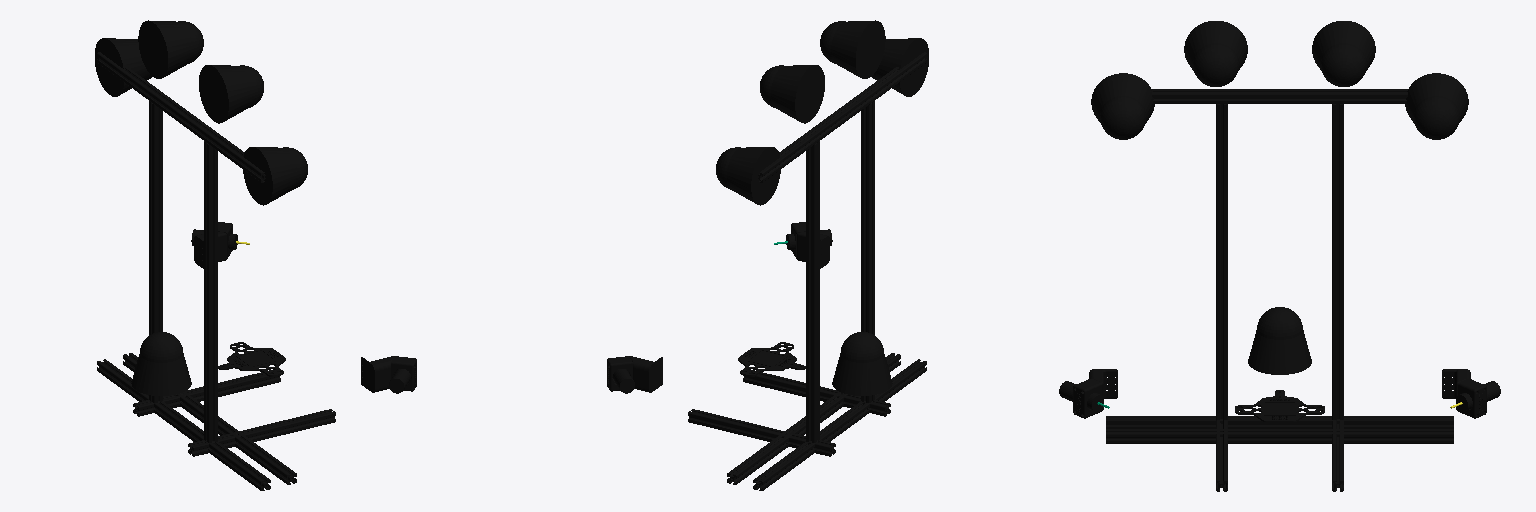
--- Facts derived from the render (not from the file) ---
Views: 3 orthographic renders of the robot side by side, from view 1: azimuth 30°, elevation 25°; view 2: azimuth 150°, elevation 25°; view 3: azimuth 270°, elevation 25°.
Model tatbot with 82 links and 81 joints (12 revolute, 2 prismatic, 67 fixed), rooted at root, posed all joints at 0.
Visible links, largest first — view 1: 600mm_vertical_right, 600mm_vertical_left, camera3, camera4, camera1, 600mm_vertical_top, camera5, 600mm_back_horizontal, 600mm_front_horizontal, camera2, 300mm_front_rail_right, 300mm_front_rail_left (+3 smaller); view 2: 600mm_vertical_left, 600mm_vertical_right, camera3, camera4, camera1, 600mm_vertical_top, camera2, 600mm_back_horizontal, 600mm_front_horizontal, camera5, 300mm_front_rail_left, 300mm_front_rail_right (+3 smaller); view 3: 600mm_front_horizontal, 600mm_back_horizontal, 600mm_vertical_top, 600mm_vertical_left, 600mm_vertical_right, camera1, camera3, camera4, camera2, camera5, palette, 300mm_front_rail_left (+5 smaller).
Boxes of the visible links, bbox=[...] form: 600mm_vertical_right: bbox=[204, 141, 217, 442]; 600mm_vertical_left: bbox=[149, 101, 162, 402]; camera3: bbox=[138, 20, 203, 78]; camera4: bbox=[199, 65, 263, 123]; camera1: bbox=[131, 332, 191, 395]; 600mm_vertical_top: bbox=[97, 52, 265, 182]; camera5: bbox=[243, 147, 307, 205]; 600mm_back_horizontal: bbox=[97, 359, 270, 490]; 600mm_front_horizontal: bbox=[123, 353, 296, 484]; camera2: bbox=[95, 38, 152, 96]; 300mm_front_rail_right: bbox=[188, 409, 335, 456]; 300mm_front_rail_left: bbox=[133, 370, 280, 416]; 600mm_vertical_left: bbox=[806, 141, 819, 442]; 600mm_vertical_right: bbox=[861, 101, 874, 402]; camera3: bbox=[760, 65, 824, 123]; camera4: bbox=[820, 20, 885, 78]; camera1: bbox=[832, 332, 892, 395]; 600mm_vertical_top: bbox=[758, 52, 926, 182]; camera2: bbox=[716, 147, 780, 205]; 600mm_back_horizontal: bbox=[753, 359, 926, 490]; 600mm_front_horizontal: bbox=[727, 353, 900, 484]; camera5: bbox=[871, 38, 928, 96]; 300mm_front_rail_left: bbox=[688, 409, 835, 456]; 300mm_front_rail_right: bbox=[743, 370, 890, 416]; 600mm_front_horizontal: bbox=[1106, 429, 1453, 443]; 600mm_back_horizontal: bbox=[1106, 416, 1453, 428]; 600mm_vertical_top: bbox=[1152, 89, 1407, 103]; 600mm_vertical_left: bbox=[1332, 104, 1343, 419]; 600mm_vertical_right: bbox=[1216, 104, 1227, 419]; camera1: bbox=[1248, 307, 1311, 374]; camera3: bbox=[1312, 21, 1375, 86]; camera4: bbox=[1184, 21, 1247, 86]; camera2: bbox=[1405, 73, 1468, 139]; camera5: bbox=[1091, 73, 1154, 139]; palette: bbox=[1235, 390, 1324, 422]; 300mm_front_rail_left: bbox=[1332, 420, 1343, 491].
Bounding box of the posed robot: 0.4126 × 0.7608 × 0.775 m (x, y, z).
Meshes: 18 distinct files referenced, 17 mesh visuals loaded (6 binary STL); not drawn: 21 (reference not matched to a file when rendering).

The robot description file, URDF, robot "tatbot":
<?xml version="1.0" ?>
<robot name="tatbot">
  <material name="black">
    <color rgba="0.1 0.1 0.1 1"/>
    <specular rgba="0.5 0.5 0.5 1"/>
  </material>
  <link name="root">
      <origin rpy="0 0 0" xyz="0 0 0"/>
  </link>

  <!-- palette -->
  <link name="palette">
    <visual>
      <origin rpy="0 0 1.5707963267948966" xyz="0 0 0"/>
      <geometry>
        <mesh filename="meshes/frame/palette.stl" scale="0.001 0.001 0.001"/>
      </geometry>
      <material name="black"/>
    </visual>
  </link>
  <joint name="palette_joint" type="fixed">
    <origin rpy="0 0 0" xyz="0.126 0 0.085"/>
    <parent link="root"/>
    <child link="palette"/>
  </joint>
  <link name="palette_calibrator" />
  <joint name="palette_calibrator_joint" type="fixed">
    <origin rpy="0 0 0" xyz="0.038 0 0.006"/>
    <parent link="palette"/>
    <child link="palette_calibrator"/>
  </joint>

  <!-- apriltag 0  -->
  <link name="tag0">
    <visual>
      <origin rpy="0 0 0" xyz="0 0 0"/>
      <geometry>
        <mesh filename="meshes/tags/16h5_008_4cm/tag.obj" scale="1 1 1"/>
      </geometry>
    </visual>
  </link>
  <joint name="tag0_joint" type="fixed">
    <origin rpy="0 0 0" xyz="0 0 0.0035"/>
    <parent link="palette"/>
    <child link="tag0"/>
  </joint>

  <!-- left inkcaps -->
  <link name="inkcap_left_large" />
  <joint name="inkcap_left_large_joint" type="fixed">
    <origin rpy="0 0 0" xyz="0 0.055 0"/>
    <parent link="palette"/>
    <child link="inkcap_left_large"/>
  </joint>
  <link name="inkcap_left_small_0" />
  <joint name="inkcap_left_small_0_joint" type="fixed">
    <origin rpy="0 0 0" xyz="0.008 0.069 0"/>
    <parent link="palette"/>
    <child link="inkcap_left_small_0"/>
  </joint>
  <link name="inkcap_left_small_1" />
  <joint name="inkcap_left_small_1_joint" type="fixed">
    <origin rpy="0 0 0" xyz="-0.008 0.069 0"/>
    <parent link="palette"/>
    <child link="inkcap_left_small_1"/>
  </joint>
  <link name="inkcap_left_medium_0" />
  <joint name="inkcap_left_medium_0_joint" type="fixed">
    <origin rpy="0 0 0" xyz="0.01 0.039 0"/>
    <parent link="palette"/>
    <child link="inkcap_left_medium_0"/>
  </joint>
  <link name="inkcap_left_medium_1" />
  <joint name="inkcap_left_medium_1_joint" type="fixed">
    <origin rpy="0 0 0" xyz="-0.01 0.039 0"/>
    <parent link="palette"/>
    <child link="inkcap_left_medium_1"/>
  </joint>
  
  <!-- right inkcaps -->
  <link name="inkcap_right_large" />
  <joint name="inkcap_right_large_joint" type="fixed">
    <origin rpy="0 0 0" xyz="0 -0.055 0"/>
    <parent link="palette"/>
    <child link="inkcap_right_large"/>
  </joint>
  <link name="inkcap_right_small_0" />
  <joint name="inkcap_right_small_0_joint" type="fixed">
    <origin rpy="0 0 0" xyz="0.008 -0.069 0"/>
    <parent link="palette"/>
    <child link="inkcap_right_small_0"/>
  </joint>
  <link name="inkcap_right_small_1" />
  <joint name="inkcap_right_small_1_joint" type="fixed">
    <origin rpy="0 0 0" xyz="-0.008 -0.069 0"/>
    <parent link="palette"/>
    <child link="inkcap_right_small_1"/>
  </joint>
  <link name="inkcap_right_medium_0" />
  <joint name="inkcap_right_medium_0_joint" type="fixed">
    <origin rpy="0 0 0" xyz="0.01 -0.039 0"/>
    <parent link="palette"/>
    <child link="inkcap_right_medium_0"/>
  </joint>
  <link name="inkcap_right_medium_1" />
  <joint name="inkcap_right_medium_1_joint" type="fixed">
    <origin rpy="0 0 0" xyz="-0.01 -0.039 0"/>
    <parent link="palette"/>
    <child link="inkcap_right_medium_1"/>
  </joint>

  <!-- camera1 -->
  <joint name="camera1_mount_joint" type="fixed">
    <origin rpy="0 0 0" xyz="-0.2 0 0"/>
    <parent link="palette"/>
    <child link="camera1"/>
  </joint>
  <link name="camera1">
    <visual>
      <origin rpy="0 0 0" xyz="0 0 0"/>
      <geometry>
        <mesh filename="meshes/cameras/amcrest.stl" scale="0.001 0.001 0.001"/>
      </geometry>
      <material name="black"/>
    </visual>
    <collision>
      <origin rpy="0 0 0" xyz="0 0 0"/>
      <geometry>
        <mesh filename="meshes/cameras/amcrest.stl" scale="0.001 0.001 0.001"/>
      </geometry>
    </collision>
  </link>
  <joint name="camera1_frame_joint" type="fixed">
    <origin rpy="-1.5707963267948966 0 0" xyz="0 0 0.07"/>
    <parent link="camera1"/>
    <child link="camera1_frame"/>
  </joint>
  <link name="camera1_frame"/>
  <joint name="camera1_optical_joint" type="fixed">
    <origin rpy="-1.5707963267948966 1.5707963267948966 -0.7853981633974483" xyz="0 0 0"/>
    <parent link="camera1_frame"/>
    <child link="camera1_optical_frame"/>
  </joint>
  <link name="camera1_optical_frame"/>
  
  <!-- camera2 -->
  <joint name="camera2_mount_joint" type="fixed">
    <origin rpy="0 1.5707963267948966 0" xyz="-0.0275 0.27 0.6"/>
    <parent link="root"/>
    <child link="camera2"/>
  </joint>
  <link name="camera2">
    <visual>
      <origin rpy="0 0 0" xyz="0 0 0"/>
      <geometry>
        <mesh filename="meshes/cameras/amcrest.stl" scale="0.001 0.001 0.001"/>
      </geometry>
      <material name="black"/>
    </visual>
    <collision>
      <origin rpy="0 0 0" xyz="0 0 0"/>
      <geometry>
        <mesh filename="meshes/cameras/amcrest.stl" scale="0.001 0.001 0.001"/>
      </geometry>
    </collision>
  </link>
  <joint name="camera2_frame_joint" type="fixed">
    <origin rpy="0 0 0" xyz="0 0 0.07"/>
    <parent link="camera2"/>
    <child link="camera2_frame"/>
  </joint>
  <link name="camera2_frame"/>
  <joint name="camera2_optical_joint" type="fixed">
    <origin rpy="-1.5707963267948966 0 -1.5707963267948966" xyz="0 0 0"/>
    <parent link="camera2_frame"/>
    <child link="camera2_optical_frame"/>
  </joint>
  <link name="camera2_optical_frame"/>
  
  <!-- camera3 -->
  <joint name="camera3_mount_joint" type="fixed">
    <origin rpy="0 1.5707963267948966 0" xyz="-0.0275 0.11 0.7"/>
    <parent link="root"/>
    <child link="camera3"/>
  </joint>
  <link name="camera3">
    <visual>
      <origin rpy="0 0 0" xyz="0 0 0"/>
      <geometry>
        <mesh filename="meshes/cameras/amcrest.stl" scale="0.001 0.001 0.001"/>
      </geometry>
      <material name="black"/>
    </visual>
    <collision>
      <origin rpy="0 0 0" xyz="0 0 0"/>
      <geometry>
        <mesh filename="meshes/cameras/amcrest.stl" scale="0.001 0.001 0.001"/>
      </geometry>
    </collision>
  </link>
  <joint name="camera3_frame_joint" type="fixed">
    <origin rpy="0 0 0" xyz="0 0 0.07"/>
    <parent link="camera3"/>
    <child link="camera3_frame"/>
  </joint>
  <link name="camera3_frame"/>
  <joint name="camera3_optical_joint" type="fixed">
    <origin rpy="-1.5707963267948966 0 -1.5707963267948966" xyz="0 0 0"/>
    <parent link="camera3_frame"/>
    <child link="camera3_optical_frame"/>
  </joint>
  <link name="camera3_optical_frame"/>

  <!-- camera4 -->
  <joint name="camera4_mount_joint" type="fixed">
    <origin rpy="0 1.5707963267948966 0" xyz="-0.0275 -0.11 0.7"/>
    <parent link="root"/>
    <child link="camera4"/>
  </joint>
  <link name="camera4">
    <visual>
      <origin rpy="0 0 0" xyz="0 0 0"/>
      <geometry>
        <mesh filename="meshes/cameras/amcrest.stl" scale="0.001 0.001 0.001"/>
      </geometry>
      <material name="black"/>
    </visual>
  </link>
  <joint name="camera4_frame_joint" type="fixed">
    <origin rpy="0 0 0" xyz="0 0 0.07"/>
    <parent link="camera4"/>
    <child link="camera4_frame"/>
  </joint>
  <link name="camera4_frame"/>
  <joint name="camera4_optical_joint" type="fixed">
    <origin rpy="-1.5707963267948966 0 -1.5707963267948966" xyz="0 0 0"/>
    <parent link="camera4_frame"/>
    <child link="camera4_optical_frame"/>
  </joint>
  <link name="camera4_optical_frame"/>

  <!-- camera5 -->
  <joint name="camera5_mount_joint" type="fixed">
    <origin rpy="0 1.5707963267948966 0" xyz="-0.0275 -0.27 0.6"/>
    <parent link="root"/>
    <child link="camera5"/>
  </joint>
  <link name="camera5">
    <visual>
      <origin rpy="0 0 0" xyz="0 0 0"/>
      <geometry>
        <mesh filename="meshes/cameras/amcrest.stl" scale="0.001 0.001 0.001"/>
      </geometry>
      <material name="black"/>
    </visual>
  </link>
  <joint name="camera5_frame_joint" type="fixed">
    <origin rpy="0 0 0" xyz="0 0 0.07"/>
    <parent link="camera5"/>
    <child link="camera5_frame"/>
  </joint>
  <link name="camera5_frame"/>
  <joint name="camera5_optical_joint" type="fixed">
    <origin rpy="-1.5707963267948966 0 -1.5707963267948966" xyz="0 0 0"/>
    <parent link="camera5_frame"/>
    <child link="camera5_optical_frame"/>
  </joint>
  <link name="camera5_optical_frame"/>

  <!-- arm_l -->
  <joint name="left/mount_joint" type="fixed">
    <origin rpy="0 0 0" xyz="0 0.2675 0"/>
    <parent link="root"/>
    <child link="left/base_link"/>
  </joint>
  <link name="left/base_link">
    <inertial>
      <origin rpy="0 0 0" xyz="-0.00014175 -0.00005228 0.03175177"/>
      <mass value="0.45969858"/>
      <inertia ixx="0.00041660" ixy="0.00000011" ixz="-0.00000454" iyy="0.00044896" iyz="-0.00000078" izz="0.00021403"/>
    </inertial>
    <visual>
      <origin rpy="0 0 0" xyz="0 0 0"/>
      <geometry>
        <mesh filename="meshes/wxai/base_link.stl"/>
      </geometry>
      <material name="black"/>
    </visual>
    <collision>
      <origin rpy="0 0 0" xyz="0 0 0"/>
      <geometry>
        <mesh filename="meshes/wxai/base_link.stl"/>
      </geometry>
    </collision>
  </link>
  <link name="left/link_1">
    <inertial>
      <origin rpy="0 0 0" xyz="-0.00011075 0.00171176 0.02044592"/>
      <mass value="0.15270428"/>
      <inertia ixx="0.00018509" ixy="-0.00000191" ixz="-0.00001436" iyy="0.00008358" iyz="-0.00000130" izz="0.00019219"/>
    </inertial>
    <visual>
      <origin rpy="0 0 0" xyz="0 0 0"/>
      <geometry>
        <mesh filename="meshes/wxai/link_1.stl"/>
      </geometry>
      <material name="black"/>
    </visual>
    <collision>
      <origin rpy="0 0 0" xyz="0 0 0"/>
      <geometry>
        <mesh filename="meshes/wxai/link_1.stl"/>
      </geometry>
    </collision>
  </link>
  <joint name="left/joint_0" type="revolute">
    <origin rpy="0 0 0" xyz="0 0 0.05725"/>
    <parent link="left/base_link"/>
    <child link="left/link_1"/>
    <axis xyz="0 0 1"/>
    <limit effort="27.0" lower="-3.0543261909900767" upper="3.0543261909900767" velocity="3.375"/>
  </joint>
  <link name="left/link_2">
    <inertial>
      <origin rpy="0 0 0" xyz="-0.13121451 -0.00292583 0.00021345"/>
      <mass value="1.15316319"/>
      <inertia ixx="0.00102632" ixy="-0.00000319" ixz="-0.00002679" iyy="0.01736118" iyz="-0.00000193" izz="0.01794489"/>
    </inertial>
    <visual>
      <origin rpy="0 0 0" xyz="0 0 0"/>
      <geometry>
        <mesh filename="meshes/wxai/link_2.stl"/>
      </geometry>
      <material name="black"/>
    </visual>
    <collision>
      <origin rpy="0 0 0" xyz="0 0 0"/>
      <geometry>
        <mesh filename="meshes/wxai/link_2.stl"/>
      </geometry>
    </collision>
  </link>
  <joint name="left/joint_1" type="revolute">
    <origin rpy="0 0 0" xyz="0.02 0 0.04625"/>
    <parent link="left/link_1"/>
    <child link="left/link_2"/>
    <axis xyz="0 1 0"/>
    <limit effort="27.0" lower="0.0" upper="3.141592653589793" velocity="3.375"/>
  </joint>
  <link name="left/link_3">
    <inertial>
      <origin rpy="0 0 0" xyz="0.18083602 -0.00094090 0.05554937"/>
      <mass value="0.68666638"/>
      <inertia ixx="0.00064876" ixy="0.00009128" ixz="-0.00052002" iyy="0.00547407" iyz="0.00001159" izz="0.00561509"/>
    </inertial>
    <visual>
      <origin rpy="0 0 0" xyz="0 0 0"/>
      <geometry>
        <mesh filename="meshes/wxai/link_3.stl"/>
      </geometry>
      <material name="black"/>
    </visual>
    <collision>
      <origin rpy="0 0 0" xyz="0 0 0"/>
      <geometry>
        <mesh filename="meshes/wxai/link_3.stl"/>
      </geometry>
    </collision>
  </link>
  <joint name="left/joint_2" type="revolute">
    <origin rpy="0 0 0" xyz="-0.264 0 0"/>
    <parent link="left/link_2"/>
    <child link="left/link_3"/>
    <axis xyz="0 -1 0"/>
    <limit effort="27.0" lower="0.0" upper="2.356194490192345" velocity="3.375"/>
  </joint>
  <link name="left/link_4">
    <inertial>
      <origin rpy="0 0 0" xyz="0.05797842 0.00027145 0.05884447"/>
      <mass value="0.45789905"/>
      <inertia ixx="0.00053839" ixy="0.00000690" ixz="-0.00018164" iyy="0.00066138" iyz="0.00000724" izz="0.00042116"/>
    </inertial>
    <visual>
      <origin rpy="0 0 0" xyz="0 0 0"/>
      <geometry>
        <mesh filename="meshes/wxai/link_4.stl"/>
      </geometry>
      <material name="black"/>
    </visual>
    <collision>
      <origin rpy="0 0 0" xyz="0 0 0"/>
      <geometry>
        <mesh filename="meshes/wxai/link_4.stl"/>
      </geometry>
    </collision>
  </link>
  <joint name="left/joint_3" type="revolute">
    <origin rpy="0 0 0" xyz="0.245 0 0.06"/>
    <parent link="left/link_3"/>
    <child link="left/link_4"/>
    <axis xyz="0 -1 0"/>
    <limit effort="7.0" lower="-1.5707963267948966" upper="1.5707963267948966" velocity="7.0"/>
  </joint>
  <link name="left/link_5">
    <inertial>
      <origin rpy="0 0 0" xyz="0.00412447 -0.00001138 -0.04283184"/>
      <mass value="0.36693910"/>
      <inertia ixx="0.00018912" ixy="-0.00000045" ixz="0.00000090" iyy="0.00032062" iyz="0.00000003" izz="0.00026750"/>
    </inertial>
    <visual>
      <origin rpy="0 0 0" xyz="0 0 0"/>
      <geometry>
        <mesh filename="meshes/wxai/link_5.stl"/>
      </geometry>
      <material name="black"/>
    </visual>
    <collision>
      <origin rpy="0 0 0" xyz="0 0 0"/>
      <geometry>
        <mesh filename="meshes/wxai/link_5.stl"/>
      </geometry>
    </collision>
  </link>
  <joint name="left/joint_4" type="revolute">
    <origin rpy="0 0 0" xyz="0.06775 0 0.0455"/>
    <parent link="left/link_4"/>
    <child link="left/link_5"/>
    <axis xyz="0 0 -1"/>
    <limit effort="7.0" lower="-1.5707963267948966" upper="1.5707963267948966" velocity="7.0"/>
  </joint>
  <link name="left/link_6">
    <inertial>
      <origin rpy="0 0 0" xyz="0.04572768 -0.00000726 0.00001402"/>
      <mass value="0.55469347"/>
      <inertia ixx="0.00082429" ixy="-0.00000051" ixz="0.00000010" iyy="0.00048759" iyz="0.00000004" izz="0.00108600"/>
    </inertial>
    <visual>
      <origin rpy="0 0 0" xyz="0 0 0"/>
      <geometry>
        <mesh filename="meshes/wxai/link_6.stl"/>
      </geometry>
      <material name="black"/>
    </visual>
    <collision>
      <origin rpy="0 0 0" xyz="0 0 0"/>
      <geometry>
        <mesh filename="meshes/wxai/link_6.stl"/>
      </geometry>
    </collision>
  </link>
  <joint name="left/joint_5" type="revolute">
    <origin rpy="0 0 0" xyz="0.02895 0 -0.0455"/>
    <parent link="left/link_5"/>
    <child link="left/link_6"/>
    <axis xyz="1 0 0"/>
    <limit effort="7.0" lower="-3.141592653589793" upper="3.141592653589793" velocity="7.0"/>
  </joint>

  <!-- left realsense -->
  <link name="left/realsense_mount_d405">
    <inertial>
      <origin rpy="0 0 0" xyz="0.03023383 0.00679835 0.05006687"/>
      <mass value="0.04518012"/>
      <inertia ixx="0.00003426" ixy="-0.00000027" ixz="-0.00000309" iyy="0.00001980" iyz="-0.00000319" izz="0.00002470"/>
    </inertial>
    <visual>
      <origin rpy="0 0 0" xyz="0 0 0"/>
      <geometry>
        <mesh filename="meshes/wxai/camera_mount_d405.stl"/>
      </geometry>
      <material name="black"/>
    </visual>
    <collision>
      <origin rpy="0 0 0" xyz="0 0 0"/>
      <geometry>
        <mesh filename="meshes/wxai/camera_mount_d405.stl"/>
      </geometry>
    </collision>
  </link>
  <joint name="left/realsense_mount_joint" type="fixed">
    <origin rpy="0 0 0" xyz="0.012 0 0"/>
    <parent link="left/link_6"/>
    <child link="left/realsense_mount_d405"/>
  </joint>
  <joint name="left/realsense_joint" type="fixed">
    <origin rpy="0 0.3490658503988659 0" xyz="0.02927207801 0 0.03824951197"/>
    <parent link="left/realsense_mount_d405"/>
    <child link="left/realsense_bottom_screw_frame"/>
  </joint>
  <link name="left/realsense_bottom_screw_frame"/>
  <joint name="left/realsense_link_joint" type="fixed">
    <origin rpy="0 0 0" xyz="0.01085 0.009 0.021"/>
    <parent link="left/realsense_bottom_screw_frame"/>
    <child link="left/realsense_link"/>
  </joint>
  <link name="left/realsense_link">
    <visual>
      <origin rpy="1.5707963267948966 0 1.5707963267948966" xyz="0.0038 -0.009 0"/>
      <geometry>
        <mesh filename="meshes/cameras/d405.stl" scale="0.001 0.001 0.001"/>
      </geometry>
      <material name="black"/>
    </visual>
    <collision>
      <origin rpy="0 0 0" xyz="-0.0078 -0.009 0"/>
      <geometry>
        <box size="0.023 0.042 0.042"/>
      </geometry>
    </collision>
    <inertial>
      <mass value="0.072"/>
      <origin xyz="0 0 0"/>
      <inertia ixx="0.00002117" ixy="0.0" ixz="0.0" iyy="0.000013758" iyz="0.0" izz="0.000013758"/>
    </inertial>
  </link>
  <joint name="left/realsense_depth_joint" type="fixed">
    <origin rpy="0 0 0" xyz="0 0 0"/>
    <parent link="left/realsense_link"/>
    <child link="left/realsense_depth_frame"/>
  </joint>
  <link name="left/realsense_depth_frame"/>
  <joint name="left/realsense_depth_optical_joint" type="fixed">
    <origin rpy="-1.5707963267948966 0 -1.5707963267948966" xyz="0 0 0"/>
    <parent link="left/realsense_depth_frame"/>
    <child link="left/realsense_depth_optical_frame"/>
  </joint>
  <link name="left/realsense_depth_optical_frame"/>
  <joint name="left/realsense_infra1_joint" type="fixed">
    <origin rpy="0 0 0" xyz="0 0.0 0"/>
    <parent link="left/realsense_link"/>
    <child link="left/realsense_infra1_frame"/>
  </joint>
  <link name="left/realsense_infra1_frame"/>
  <joint name="left/realsense_infra1_optical_joint" type="fixed">
    <origin rpy="-1.5707963267948966 0 -1.5707963267948966" xyz="0 0 0"/>
    <parent link="left/realsense_infra1_frame"/>
    <child link="left/realsense_infra1_optical_frame"/>
  </joint>
  <link name="left/realsense_infra1_optical_frame"/>
  <joint name="left/realsense_infra2_joint" type="fixed">
    <origin rpy="0 0 0" xyz="0 -0.018 0"/>
    <parent link="left/realsense_link"/>
    <child link="left/realsense_infra2_frame"/>
  </joint>
  <link name="left/realsense_infra2_frame"/>
  <joint name="left/realsense_infra2_optical_joint" type="fixed">
    <origin rpy="-1.5707963267948966 0 -1.5707963267948966" xyz="0 0 0"/>
    <parent link="left/realsense_infra2_frame"/>
    <child link="left/realsense_infra2_optical_frame"/>
  </joint>
  <link name="left/realsense_infra2_optical_frame"/>
  <joint name="left/realsense_color_joint" type="fixed">
    <origin rpy="0 0 0" xyz="0 0.0 0"/>
    <parent link="left/realsense_link"/>
    <child link="left/realsense_color_frame"/>
  </joint>
  <link name="left/realsense_color_frame"/>
  <joint name="left/realsense_color_optical_joint" type="fixed">
    <origin rpy="-1.5707963267948966 0 -1.5707963267948966" xyz="0 0 0"/>
    <parent link="left/realsense_color_frame"/>
    <child link="left/realsense_color_optical_frame"/>
  </joint>
  <link name="left/realsense_color_optical_frame"/>

  <!-- left arm carriage -->
  <link name="left/carriage_left">
    <inertial>
      <origin rpy="0 0 0" xyz="-0.00889602 -0.00403515 -0.00457908"/>
      <mass value="0.05036313"/>
      <inertia ixx="0.00001736" ixy="-0.00000165" ixz="-0.00000104" iyy="0.00000591" iyz="-0.00000172" izz="0.00001378"/>
    </inertial>
    <visual>
      <origin rpy="0 0 0" xyz="0 0 0"/>
      <geometry>
        <mesh filename="meshes/wxai/carriage_left.stl"/>
      </geometry>
      <material name="black"/>
    </visual>
    <collision>
      <origin rpy="0 0 0" xyz="0 0 0"/>
      <geometry>
        <mesh filename="meshes/wxai/carriage_left.stl"/>
      </geometry>
    </collision>
  </link>
  <joint name="left/left_carriage_joint" type="prismatic">
    <origin rpy="0 0 0" xyz="0.0865 0.023 0"/>
    <parent link="left/link_6"/>
    <child link="left/carriage_left"/>
    <axis xyz="0 1 0"/>
    <limit effort="200.0" lower="0.0" upper="0.04" velocity="0.25"/>
  </joint>
  <link name="left/ee_p1">
    <visual>
      <origin rpy="-1.5707963267948966 0 -1.5707963267948966" xyz="0 -0.007 0"/>
      <geometry>
        <mesh filename="meshes/ee/p1.stl" scale="0.001 0.001 0.001"/>
      </geometry>
      <material name="black"/>
    </visual>
  </link>
  <joint name="left/ee_p1_joint" type="fixed">
    <origin rpy="0 0 0" xyz="0 0 0"/>
    <parent link="left/carriage_left"/>
    <child link="left/ee_p1"/>
  </joint>
  <link name="left/ee_p2">
    <visual>
      <origin rpy="-1.5707963267948966 0 -0.7853981633974483" xyz="0.0255 0.0475 0"/>
      <geometry>
        <mesh filename="meshes/ee/p2.stl" scale="0.001 0.001 0.001"/>
      </geometry>
      <material name="black"/>
    </visual>
  </link>
  <joint name="left/ee_p2_joint" type="fixed">
    <origin rpy="0 0 0" xyz="0 0 0"/>
    <parent link="left/ee_p1"/>
    <child link="left/ee_p2"/>
  </joint>

  <!-- left arm tattoo pen -->
  <link name="left/tattoo_pen">
    <visual>
      <origin rpy="0 0 0" xyz="0 0 0"/>
      <geometry>
        <cylinder length="0.08" radius="0.015"/>
      </geometry>
      <material name="black"/>
    </visual>
  </link>
  <joint name="left/tattoo_pen_joint" type="fixed">
    <origin rpy="-1.5707963267948966 0 0.7853981633974483" xyz="0.051 0.051 0"/>
    <parent link="left/ee_p1"/>
    <child link="left/tattoo_pen"/>
  </joint>
  <link name="left/tattoo_needle">
    <visual>
      <origin rpy="0 0 0" xyz="0 0 0.016"/>
      <geometry>
        <cylinder length="0.035" radius="0.002"/>
      </geometry>
    </visual>
  </link>
  <joint name="left/tattoo_needle_joint" type="fixed">
    <origin rpy="0 0 0" xyz="0 0 -0.065"/>
    <parent link="left/tattoo_pen"/>
    <child link="left/tattoo_needle"/>
  </joint>


  <!-- arm_r -->
  <joint name="right/mount_joint" type="fixed">
    <origin rpy="0 0 0" xyz="0 -0.2675 0"/>
    <parent link="root"/>
    <child link="right/base_link"/>
  </joint>
  <link name="right/base_link">
    <inertial>
      <origin rpy="0 0 0" xyz="-0.00014175 -0.00005228 0.03175177"/>
      <mass value="0.45969858"/>
      <inertia ixx="0.00041660" ixy="0.00000011" ixz="-0.00000454" iyy="0.00044896" iyz="-0.00000078" izz="0.00021403"/>
    </inertial>
    <visual>
      <origin rpy="0 0 0" xyz="0 0 0"/>
      <geometry>
        <mesh filename="meshes/wxai/base_link.stl"/>
      </geometry>
      <material name="black"/>
    </visual>
    <collision>
      <origin rpy="0 0 0" xyz="0 0 0"/>
      <geometry>
        <mesh filename="meshes/wxai/base_link.stl"/>
      </geometry>
    </collision>
  </link>
  <link name="right/link_1">
    <inertial>
      <origin rpy="0 0 0" xyz="-0.00011075 0.00171176 0.02044592"/>
      <mass value="0.15270428"/>
      <inertia ixx="0.00018509" ixy="-0.00000191" ixz="-0.00001436" iyy="0.00008358" iyz="-0.00000130" izz="0.00019219"/>
    </inertial>
    <visual>
      <origin rpy="0 0 0" xyz="0 0 0"/>
      <geometry>
        <mesh filename="meshes/wxai/link_1.stl"/>
      </geometry>
      <material name="black"/>
    </visual>
    <collision>
      <origin rpy="0 0 0" xyz="0 0 0"/>
      <geometry>
        <mesh filename="meshes/wxai/link_1.stl"/>
      </geometry>
    </collision>
  </link>
  <joint name="right/joint_0" type="revolute">
    <origin rpy="0 0 0" xyz="0 0 0.05725"/>
    <parent link="right/base_link"/>
    <child link="right/link_1"/>
    <axis xyz="0 0 1"/>
    <limit effort="27.0" lower="-3.0543261909900767" upper="3.0543261909900767" velocity="3.375"/>
  </joint>
  <link name="right/link_2">
    <inertial>
      <origin rpy="0 0 0" xyz="-0.13121451 -0.00292583 0.00021345"/>
      <mass value="1.15316319"/>
      <inertia ixx="0.00102632" ixy="-0.00000319" ixz="-0.00002679" iyy="0.01736118" iyz="-0.00000193" izz="0.01794489"/>
    </inertial>
    <visual>
      <origin rpy="0 0 0" xyz="0 0 0"/>
      <geometry>
        <mesh filename="meshes/wxai/link_2.stl"/>
      </geometry>
      <material name="black"/>
    </visual>
    <collision>
      <origin rpy="0 0 0" xyz="0 0 0"/>
      <geometry>
        <mesh filename="meshes/wxai/link_2.stl"/>
      </geometry>
    </collision>
  </link>
  <joint name="right/joint_1" type="revolute">
    <origin rpy="0 0 0" xyz="0.02 0 0.04625"/>
    <parent link="right/link_1"/>
    <child link="right/link_2"/>
    <axis xyz="0 1 0"/>
    <limit effort="27.0" lower="0.0" upper="3.141592653589793" velocity="3.375"/>
  </joint>
  <link name="right/link_3">
    <inertial>
      <origin rpy="0 0 0" xyz="0.18083602 -0.00094090 0.05554937"/>
      <mass value="0.68666638"/>
      <inertia ixx="0.00064876" ixy="0.00009128" ixz="-0.00052002" iyy="0.00547407" iyz="0.00001159" izz="0.00561509"/>
    </inertial>
    <visual>
      <origin rpy="0 0 0" xyz="0 0 0"/>
      <geometry>
        <mesh filename="meshes/wxai/link_3.stl"/>
      </geometry>
      <material name="black"/>
    </visual>
    <collision>
      <origin rpy="0 0 0" xyz="0 0 0"/>
      <geometry>
        <mesh filename="meshes/wxai/link_3.stl"/>
      </geometry>
    </collision>
  </link>
  <joint name="right/joint_2" type="revolute">
    <origin rpy="0 0 0" xyz="-0.264 0 0"/>
    <parent link="right/link_2"/>
    <child link="right/link_3"/>
    <axis xyz="0 -1 0"/>
    <limit effort="27.0" lower="0.0" upper="2.356194490192345" velocity="3.375"/>
  </joint>
  <link name="right/link_4">
    <inertial>
      <origin rpy="0 0 0" xyz="0.05797842 0.00027145 0.05884447"/>
      <mass value="0.45789905"/>
      <inertia ixx="0.00053839" ixy="0.00000690" ixz="-0.00018164" iyy="0.00066138" iyz="0.00000724" izz="0.00042116"/>
    </inertial>
    <visual>
      <origin rpy="0 0 0" xyz="0 0 0"/>
      <geometry>
        <mesh filename="meshes/wxai/link_4.stl"/>
      </geometry>
      <material name="black"/>
    </visual>
    <collision>
      <origin rpy="0 0 0" xyz="0 0 0"/>
      <geometry>
        <mesh filename="meshes/wxai/link_4.stl"/>
      </geometry>
    </collision>
  </link>
  <joint name="right/joint_3" type="revolute">
    <origin rpy="0 0 0" xyz="0.245 0 0.06"/>
    <parent link="right/link_3"/>
    <child link="right/link_4"/>
    <axis xyz="0 -1 0"/>
    <limit effort="7.0" lower="-1.5707963267948966" upper="1.5707963267948966" velocity="7.0"/>
  </joint>
  <link name="right/link_5">
    <inertial>
      <origin rpy="0 0 0" xyz="0.00412447 -0.00001138 -0.04283184"/>
      <mass value="0.36693910"/>
      <inertia ixx="0.00018912" ixy="-0.00000045" ixz="0.00000090" iyy="0.00032062" iyz="0.00000003" izz="0.00026750"/>
    </inertial>
    <visual>
      <origin rpy="0 0 0" xyz="0 0 0"/>
      <geometry>
        <mesh filename="meshes/wxai/link_5.stl"/>
      </geometry>
      <material name="black"/>
    </visual>
    <collision>
      <origin rpy="0 0 0" xyz="0 0 0"/>
      <geometry>
        <mesh filename="meshes/wxai/link_5.stl"/>
      </geometry>
    </collision>
  </link>
  <joint name="right/joint_4" type="revolute">
    <origin rpy="0 0 0" xyz="0.06775 0 0.0455"/>
    <parent link="right/link_4"/>
    <child link="right/link_5"/>
    <axis xyz="0 0 -1"/>
    <limit effort="7.0" lower="-1.5707963267948966" upper="1.5707963267948966" velocity="7.0"/>
  </joint>
  <link name="right/link_6">
    <inertial>
      <origin rpy="0 0 0" xyz="0.04572768 -0.00000726 0.00001402"/>
      <mass value="0.55469347"/>
      <inertia ixx="0.00082429" ixy="-0.00000051" ixz="0.00000010" iyy="0.00048759" iyz="0.00000004" izz="0.00108600"/>
    </inertial>
    <visual>
      <origin rpy="0 0 0" xyz="0 0 0"/>
      <geometry>
        <mesh filename="meshes/wxai/link_6.stl"/>
      </geometry>
      <material name="black"/>
    </visual>
    <collision>
      <origin rpy="0 0 0" xyz="0 0 0"/>
      <geometry>
        <mesh filename="meshes/wxai/link_6.stl"/>
      </geometry>
    </collision>
  </link>
  <joint name="right/joint_5" type="revolute">
    <origin rpy="0 0 0" xyz="0.02895 0 -0.0455"/>
    <parent link="right/link_5"/>
    <child link="right/link_6"/>
    <axis xyz="1 0 0"/>
    <limit effort="7.0" lower="-3.141592653589793" upper="3.141592653589793" velocity="7.0"/>
  </joint>

  <!-- right realsense -->
  <link name="right/realsense_mount_d405">
    <inertial>
      <origin rpy="0 0 0" xyz="0.03023383 0.00679835 0.05006687"/>
      <mass value="0.04518012"/>
      <inertia ixx="0.00003426" ixy="-0.00000027" ixz="-0.00000309" iyy="0.00001980" iyz="-0.00000319" izz="0.00002470"/>
    </inertial>
    <visual>
      <origin rpy="0 0 0" xyz="0 0 0"/>
      <geometry>
        <mesh filename="meshes/wxai/camera_mount_d405.stl"/>
      </geometry>
      <material name="black"/>
    </visual>
    <collision>
      <origin rpy="0 0 0" xyz="0 0 0"/>
      <geometry>
        <mesh filename="meshes/wxai/camera_mount_d405.stl"/>
      </geometry>
    </collision>
  </link>
  <joint name="right/realsense_mount_joint" type="fixed">
    <origin rpy="0 0 0" xyz="0.012 0 0"/>
    <parent link="right/link_6"/>
    <child link="right/realsense_mount_d405"/>
  </joint>
  <joint name="right/realsense_joint" type="fixed">
    <origin rpy="0 0.3490658503988659 0" xyz="0.02927207801 0 0.03824951197"/>
    <parent link="right/realsense_mount_d405"/>
    <child link="right/realsense_bottom_screw_frame"/>
  </joint>
  <link name="right/realsense_bottom_screw_frame"/>
  <joint name="right/realsense_link_joint" type="fixed">
    <origin rpy="0 0 0" xyz="0.01085 0.009 0.021"/>
    <parent link="right/realsense_bottom_screw_frame"/>
    <child link="right/realsense_link"/>
  </joint>
  <link name="right/realsense_link">
    <visual>
      <origin rpy="1.5707963267948966 0 1.5707963267948966" xyz="0.0038 -0.009 0"/>
      <geometry>
        <mesh filename="meshes/cameras/d405.stl" scale="0.001 0.001 0.001"/>
      </geometry>
      <material name="black"/>
    </visual>
    <collision>
      <origin rpy="0 0 0" xyz="-0.0078 -0.009 0"/>
      <geometry>
        <box size="0.023 0.042 0.042"/>
      </geometry>
    </collision>
    <inertial>
      <mass value="0.072"/>
      <origin xyz="0 0 0"/>
      <inertia ixx="0.00002117" ixy="0.0" ixz="0.0" iyy="0.000013758" iyz="0.0" izz="0.000013758"/>
    </inertial>
  </link>
  <joint name="right/realsense_depth_joint" type="fixed">
    <origin rpy="0 0 0" xyz="0 0 0"/>
    <parent link="right/realsense_link"/>
    <child link="right/realsense_depth_frame"/>
  </joint>
  <link name="right/realsense_depth_frame"/>
  <joint name="right/realsense_depth_optical_joint" type="fixed">
    <origin rpy="-1.5707963267948966 0 -1.5707963267948966" xyz="0 0 0"/>
    <parent link="right/realsense_depth_frame"/>
    <child link="right/realsense_depth_optical_frame"/>
  </joint>
  <link name="right/realsense_depth_optical_frame"/>
  <joint name="right/realsense_infra1_joint" type="fixed">
    <origin rpy="0 0 0" xyz="0 0.0 0"/>
    <parent link="right/realsense_link"/>
    <child link="right/realsense_infra1_frame"/>
  </joint>
  <link name="right/realsense_infra1_frame"/>
  <joint name="right/realsense_infra1_optical_joint" type="fixed">
    <origin rpy="-1.5707963267948966 0 -1.5707963267948966" xyz="0 0 0"/>
    <parent link="right/realsense_infra1_frame"/>
    <child link="right/realsense_infra1_optical_frame"/>
  </joint>
  <link name="right/realsense_infra1_optical_frame"/>
  <joint name="right/realsense_infra2_joint" type="fixed">
    <origin rpy="0 0 0" xyz="0 -0.018 0"/>
    <parent link="right/realsense_link"/>
    <child link="right/realsense_infra2_frame"/>
  </joint>
  <link name="right/realsense_infra2_frame"/>
  <joint name="right/realsense_infra2_optical_joint" type="fixed">
    <origin rpy="-1.5707963267948966 0 -1.5707963267948966" xyz="0 0 0"/>
    <parent link="right/realsense_infra2_frame"/>
    <child link="right/realsense_infra2_optical_frame"/>
  </joint>
  <link name="right/realsense_infra2_optical_frame"/>
  <joint name="right/realsense_color_joint" type="fixed">
    <origin rpy="0 0 0" xyz="0 0.0 0"/>
    <parent link="right/realsense_link"/>
    <child link="right/realsense_color_frame"/>
  </joint>
  <link name="right/realsense_color_frame"/>
  <joint name="right/realsense_color_optical_joint" type="fixed">
    <origin rpy="-1.5707963267948966 0 -1.5707963267948966" xyz="0 0 0"/>
    <parent link="right/realsense_color_frame"/>
    <child link="right/realsense_color_optical_frame"/>
  </joint>
  <link name="right/realsense_color_optical_frame"/>

  <!-- right arm carriage -->
  <link name="right/carriage_right">
    <inertial>
      <origin rpy="0 0 0" xyz="-0.00889602 0.00403514 0.00457901"/>
      <mass value="0.05036313"/>
      <inertia ixx="0.00001736" ixy="-0.00000165" ixz="-0.00000104" iyy="0.00000591" iyz="-0.00000172" izz="0.00001378"/>
    </inertial>
    <visual>
      <origin rpy="0 0 0" xyz="0 0 0"/>
      <geometry>
        <mesh filename="meshes/wxai/carriage_right.stl"/>
      </geometry>
      <material name="black"/>
    </visual>
    <collision>
      <origin rpy="0 0 0" xyz="0 0 0"/>
      <geometry>
        <mesh filename="meshes/wxai/carriage_right.stl"/>
      </geometry>
    </collision>
  </link>
  <joint name="right/right_carriage_joint" type="prismatic">
    <origin rpy="0 0 0" xyz="0.0865 -0.023 0"/>
    <parent link="right/link_6"/>
    <child link="right/carriage_right"/>
    <axis xyz="0 -1 0"/>
    <limit effort="200.0" lower="0.0" upper="0.04" velocity="0.25"/>
  </joint>
  <link name="right/ee_p1">
    <visual>
      <origin rpy="1.5707963267948966 0 1.5707963267948966" xyz="0 0.007 0"/>
      <geometry>
        <mesh filename="meshes/ee/p1.stl" scale="0.001 0.001 0.001"/>
      </geometry>
      <material name="black"/>
    </visual>
  </link>
  <joint name="right/ee_p1_joint" type="fixed">
    <origin rpy="0 0 0" xyz="0 0 0"/>
    <parent link="right/carriage_right"/>
    <child link="right/ee_p1"/>
  </joint>
  <link name="right/ee_p2">
    <visual>
      <origin rpy="1.5707963267948966 0 0.7853981633974483" xyz="0.0255 -0.0475 0"/>
      <geometry>
        <mesh filename="meshes/ee/p2.stl" scale="0.001 0.001 0.001"/>
      </geometry>
      <material name="black"/>
    </visual>
  </link>
  <joint name="right/ee_p2_joint" type="fixed">
    <origin rpy="0 0 0" xyz="0 0 0"/>
    <parent link="right/ee_p1"/>
    <child link="right/ee_p2"/>
  </joint>

  <!-- right arm tattoo pen -->
  <link name="right/tattoo_pen">
    <visual>
      <origin rpy="0 0 0" xyz="0 0 0"/>
      <geometry>
        <cylinder length="0.08" radius="0.015"/>
      </geometry>
      <material name="black"/>
    </visual>
  </link>
  <joint name="right/tattoo_pen_joint" type="fixed">
    <origin rpy="1.5707963267948966 0 -0.7853981633974483" xyz="0.051 -0.051 0"/>
    <parent link="right/ee_p1"/>
    <child link="right/tattoo_pen"/>
  </joint>
  <link name="right/tattoo_needle">
    <visual>
      <origin rpy="0 0 0" xyz="0 0 0.016"/>
      <geometry>
        <cylinder length="0.035" radius="0.002"/>
      </geometry>
    </visual>
  </link>
  <joint name="right/tattoo_needle_joint" type="fixed">
    <origin rpy="0 0 0" xyz="0 0 -0.065"/>
    <parent link="right/tattoo_pen"/>
    <child link="right/tattoo_needle"/>
  </joint>

  <!-- horizontal aluminum framing -->
  <link name="600mm_front_horizontal">
    <visual>
      <origin rpy="1.57079632679 0 0" xyz="0 0 0"/>
      <geometry>
        <mesh filename="meshes/frame/t2020_600mm.stl" scale="0.001 0.001 0.001"/>
      </geometry>
      <material name="black"/>
    </visual>
  </link>
  <joint name="600mm_front_horizontal_joint" type="fixed">
    <origin rpy="0 0 0" xyz="0.0275 0 -0.01"/>
    <parent link="root"/>
    <child link="600mm_front_horizontal"/>
  </joint>
  <link name="600mm_back_horizontal">
    <visual>
      <origin rpy="1.57079632679 0 0" xyz="0 0 0"/>
      <geometry>
        <mesh filename="meshes/frame/t2020_600mm.stl" scale="0.001 0.001 0.001"/>
      </geometry>
      <material name="black"/>
    </visual>
  </link>
  <joint name="600mm_back_horizontal_joint" type="fixed">
    <origin rpy="0 0 0" xyz="-0.0275 0 -0.01"/>
    <parent link="root"/>
    <child link="600mm_back_horizontal"/>
  </joint>

  <!-- vertical aluminum framing -->
  <link name="600mm_vertical_left">
    <visual>
      <origin rpy="0 0 0" xyz="0 0 0"/>
      <geometry>
        <mesh filename="meshes/frame/t2020_600mm.stl" scale="0.001 0.001 0.001"/>
      </geometry>
      <material name="black"/>
    </visual>
  </link>
  <joint name="600mm_vertical_left_joint" type="fixed">
    <origin rpy="0 0 0" xyz="-0.0275 0.1 0.30"/>
    <parent link="root"/>
    <child link="600mm_vertical_left"/>
  </joint>
  <link name="600mm_vertical_right">
    <visual>
      <origin rpy="0 0 0" xyz="0 0 0"/>
      <geometry>
        <mesh filename="meshes/frame/t2020_600mm.stl" scale="0.001 0.001 0.001"/>
      </geometry>
      <material name="black"/>
    </visual>
  </link>
  <joint name="600mm_vertical_right_joint" type="fixed">
    <origin rpy="0 0 0" xyz="-0.0275 -0.1 0.30"/>
    <parent link="root"/>
    <child link="600mm_vertical_right"/>
  </joint>
  <link name="600mm_vertical_top">
    <visual>
      <origin rpy="1.57079632679 0 0" xyz="0 0 0"/>
      <geometry>
        <mesh filename="meshes/frame/t2020_600mm.stl" scale="0.001 0.001 0.001"/>
      </geometry>
      <material name="black"/>
    </visual>
  </link>
  <joint name="600mm_vertical_top_joint" type="fixed">
    <origin rpy="0 0 0" xyz="-0.0275 0 0.61"/>
    <parent link="root"/>
    <child link="600mm_vertical_top"/>
  </joint>

  <!-- front rails -->
  <link name="300mm_front_rail_left">
    <visual>
      <origin rpy="1.57079632679 0 1.57079632679" xyz="0 0 0"/>
      <geometry>
        <mesh filename="meshes/frame/t2020_300mm.stl" scale="0.001 0.001 0.001"/>
      </geometry>
      <material name="black"/>
    </visual>
  </link>
  <joint name="300mm_front_rail_left_joint" type="fixed">
    <origin rpy="0 0 0" xyz="0.08 0.1 -0.01"/>
    <parent link="root"/>
    <child link="300mm_front_rail_left"/>
  </joint>
  <link name="300mm_front_rail_right">
    <visual>
      <origin rpy="1.57079632679 0 1.57079632679" xyz="0 0 0"/>
      <geometry>
        <mesh filename="meshes/frame/t2020_300mm.stl" scale="0.001 0.001 0.001"/>
      </geometry>
      <material name="black"/>
    </visual>
  </link>
  <joint name="300mm_front_rail_right_joint" type="fixed">
    <origin rpy="0 0 0" xyz="0.08 -0.1 -0.01"/>
    <parent link="root"/>
    <child link="300mm_front_rail_right"/>
  </joint>

</robot>
